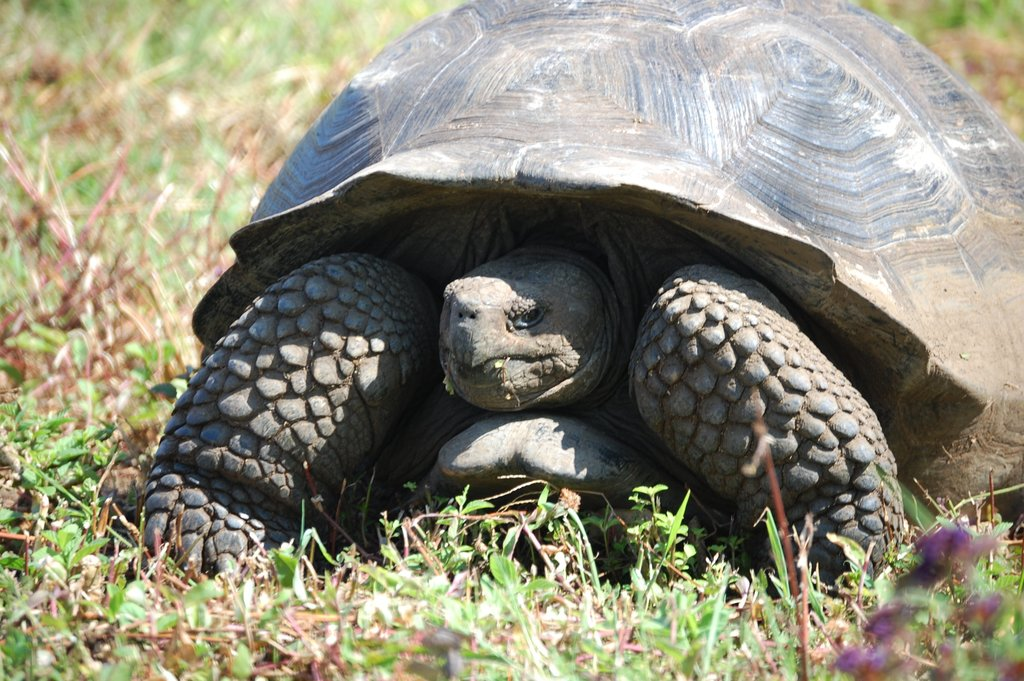Sea turtles: (135, 0, 1023, 576)
